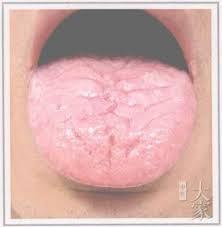baitaishe: (27, 56, 196, 188)
pangdashe: (27, 56, 196, 188)
